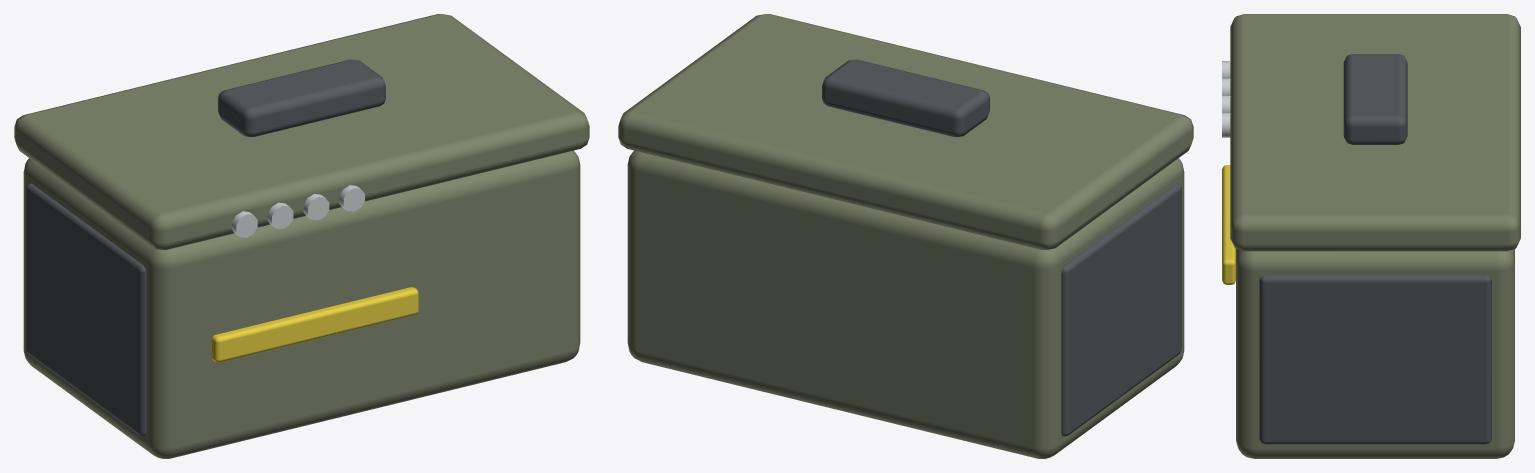
Rendered from battle-royale-town-and-airfield-ammo-box-e9e5adc3__28227.glb.
3 views of the same model, side by side, from view 1: azimuth 30°, elevation 25°; view 2: azimuth 150°, elevation 25°; view 3: azimuth 270°, elevation 25° (orthographic).
Parts seen in each view (by area): view 1: ammo-box; view 2: ammo-box; view 3: ammo-box.
Boxes of the visible parts, x1,y1,x2,y2 form: ammo-box: (14, 14, 589, 458); ammo-box: (618, 14, 1193, 458); ammo-box: (1222, 14, 1520, 458).
Bounding box in the file's own units: 0.43 × 0.263 × 0.257.
